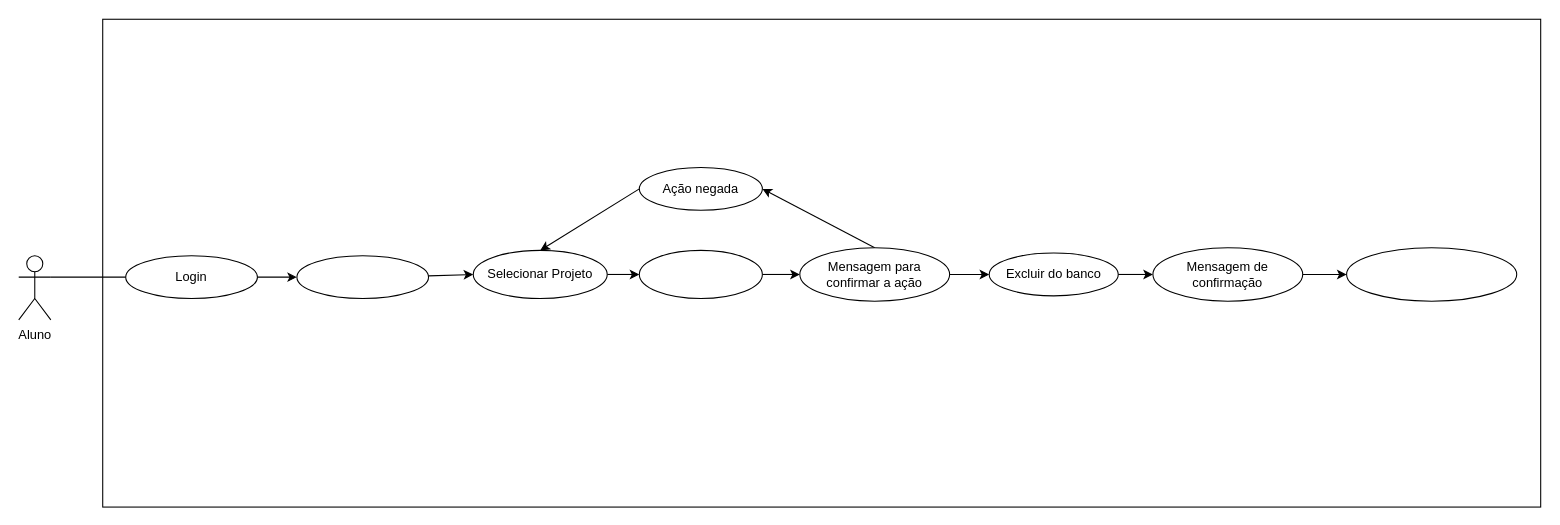
The diagram is 1560 pixels wide and 525 high, and some of its shapes have lost their labels. Each missing label, with the centre of its shape:
"Excluir Projeto" goes at point (700, 274).
"Ver meus Projetos" goes at point (362, 277).
"Volta // Ver meus projetos" goes at point (1431, 274).
